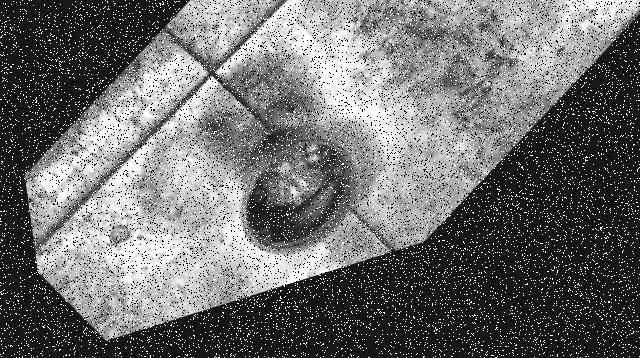pot: (240, 127, 354, 253)
